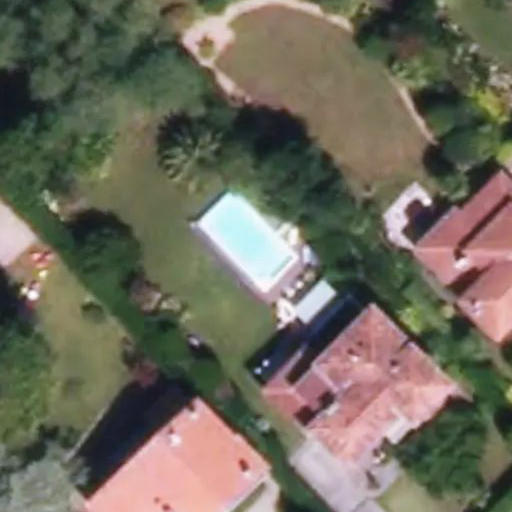pool: (207, 226, 304, 257)
